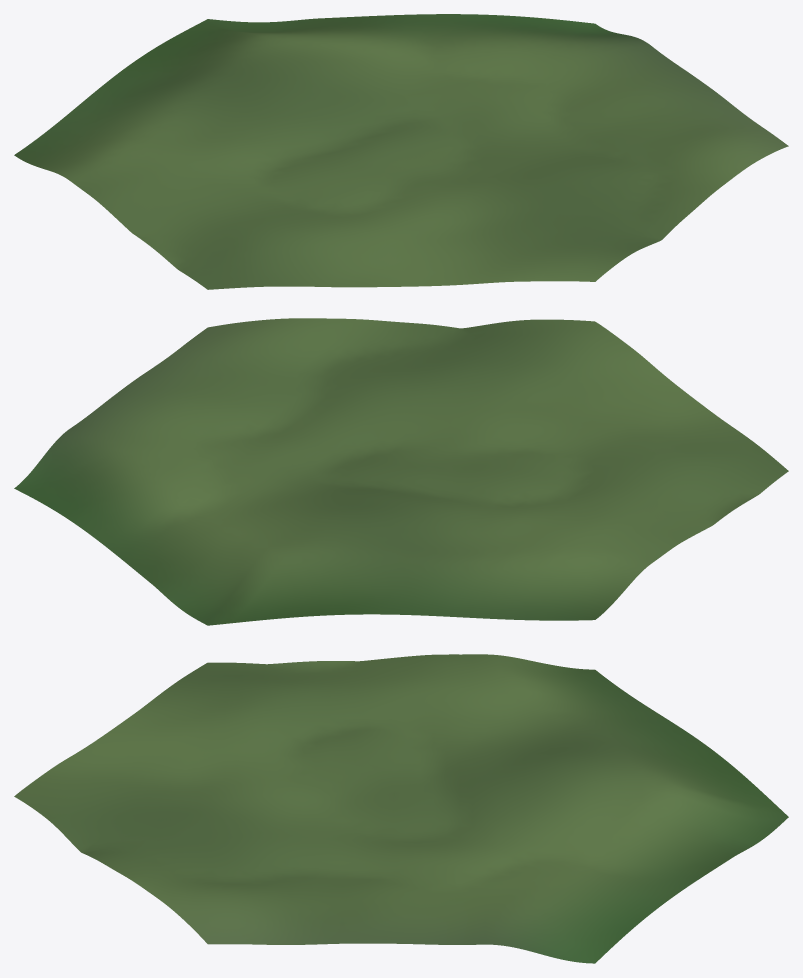
3 views of the same model, one above another, from view 1: azimuth 30°, elevation 25°; view 2: azimuth 150°, elevation 25°; view 3: azimuth 270°, elevation 25° (orthographic).
Visible parts, largest first — view 1: JS_+1_11; view 2: JS_+1_11; view 3: JS_+1_11.
Boxes of the visible parts, x1,y1,x2,y2 form: JS_+1_11: [14, 14, 788, 289]; JS_+1_11: [14, 318, 788, 625]; JS_+1_11: [14, 654, 788, 963].
Size of the model in its own units: 4330 by 269 by 5000.
